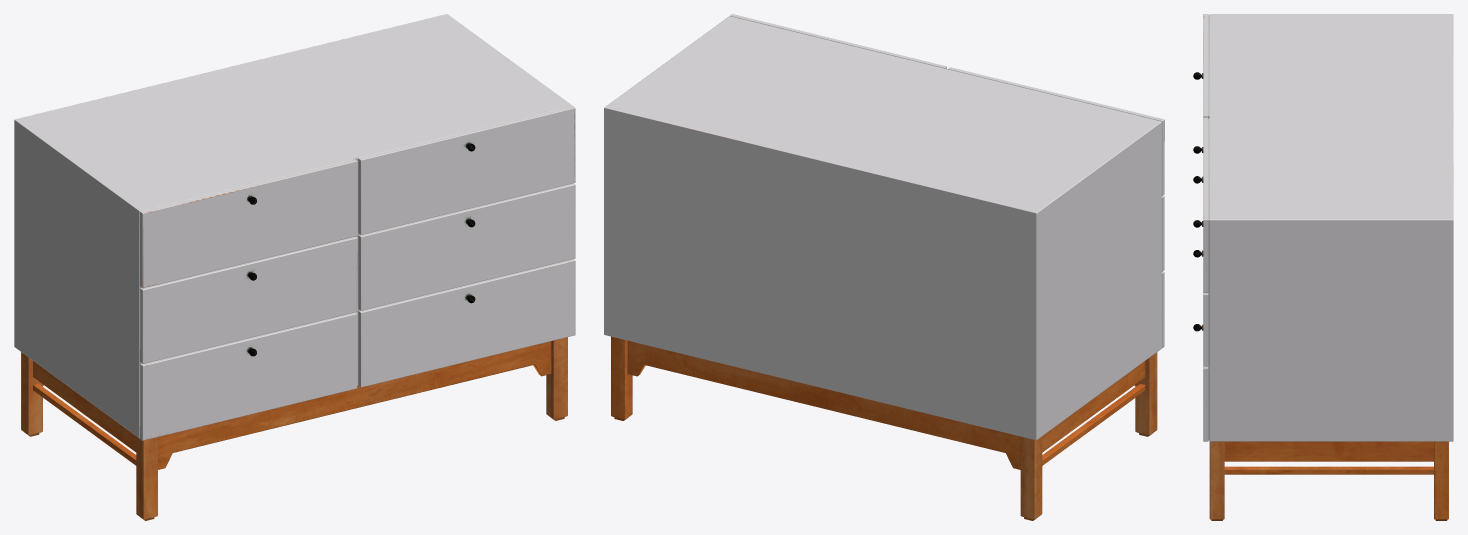
Rendered from dresser.fbx.
3 renders of one model, left to right at view 1: azimuth 30°, elevation 25°; view 2: azimuth 150°, elevation 25°; view 3: azimuth 270°, elevation 25°, orthographic. The views are drawn at different scales.
Visible parts, largest first — view 1: mesh_id22; view 2: mesh_id22; view 3: mesh_id22.
Part boxes in pixels (x1,y1,x2,y2): mesh_id22: (14,14,575,520); mesh_id22: (604,14,1164,520); mesh_id22: (1193,14,1453,520).
Bounding box in the file's own units: 1024 × 705 × 547.
Materials: 1 (1 with a texture image).
